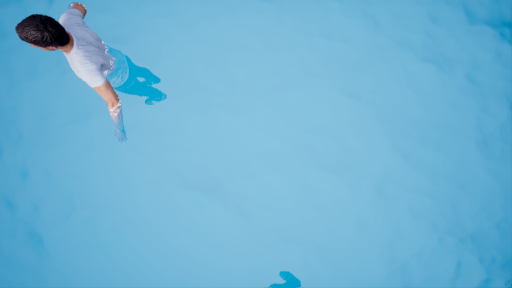person: (23, 8, 173, 145)
